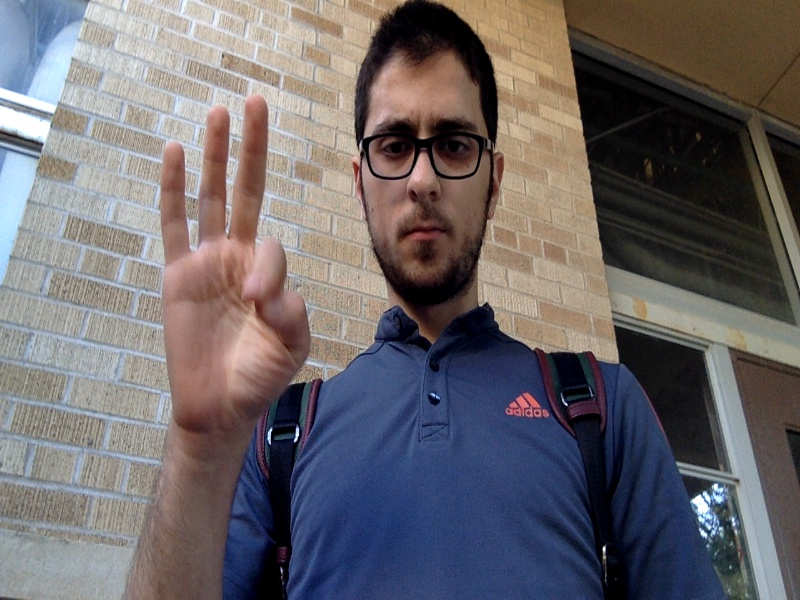3-hand: (162, 98, 308, 444)
